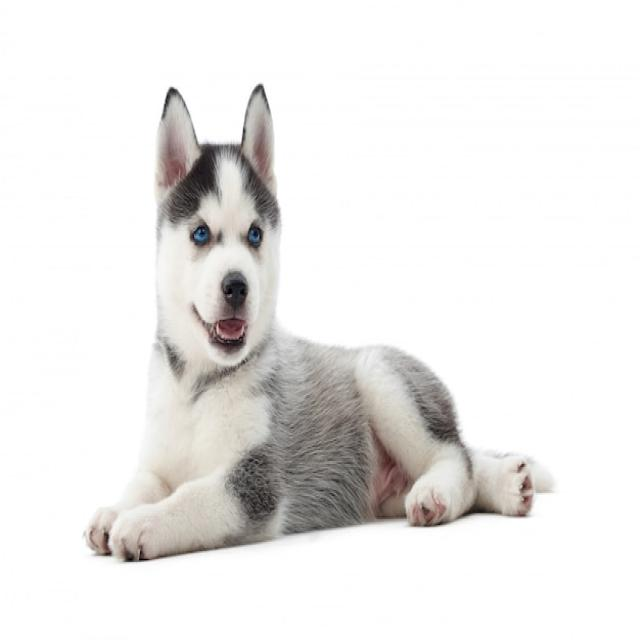Dog: (83, 82, 557, 563)
